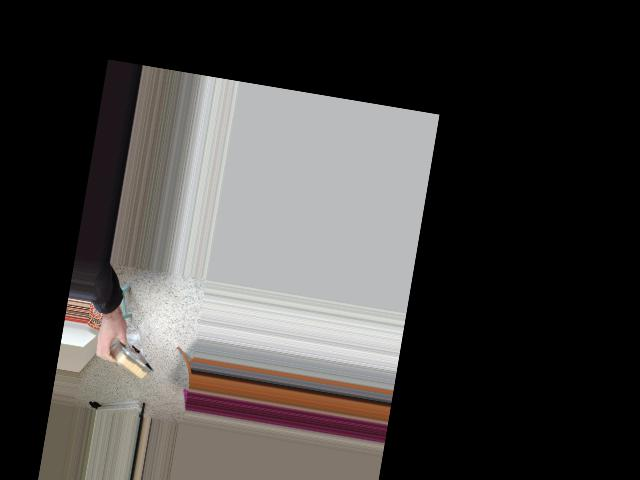cheese: (82, 323, 161, 390)
